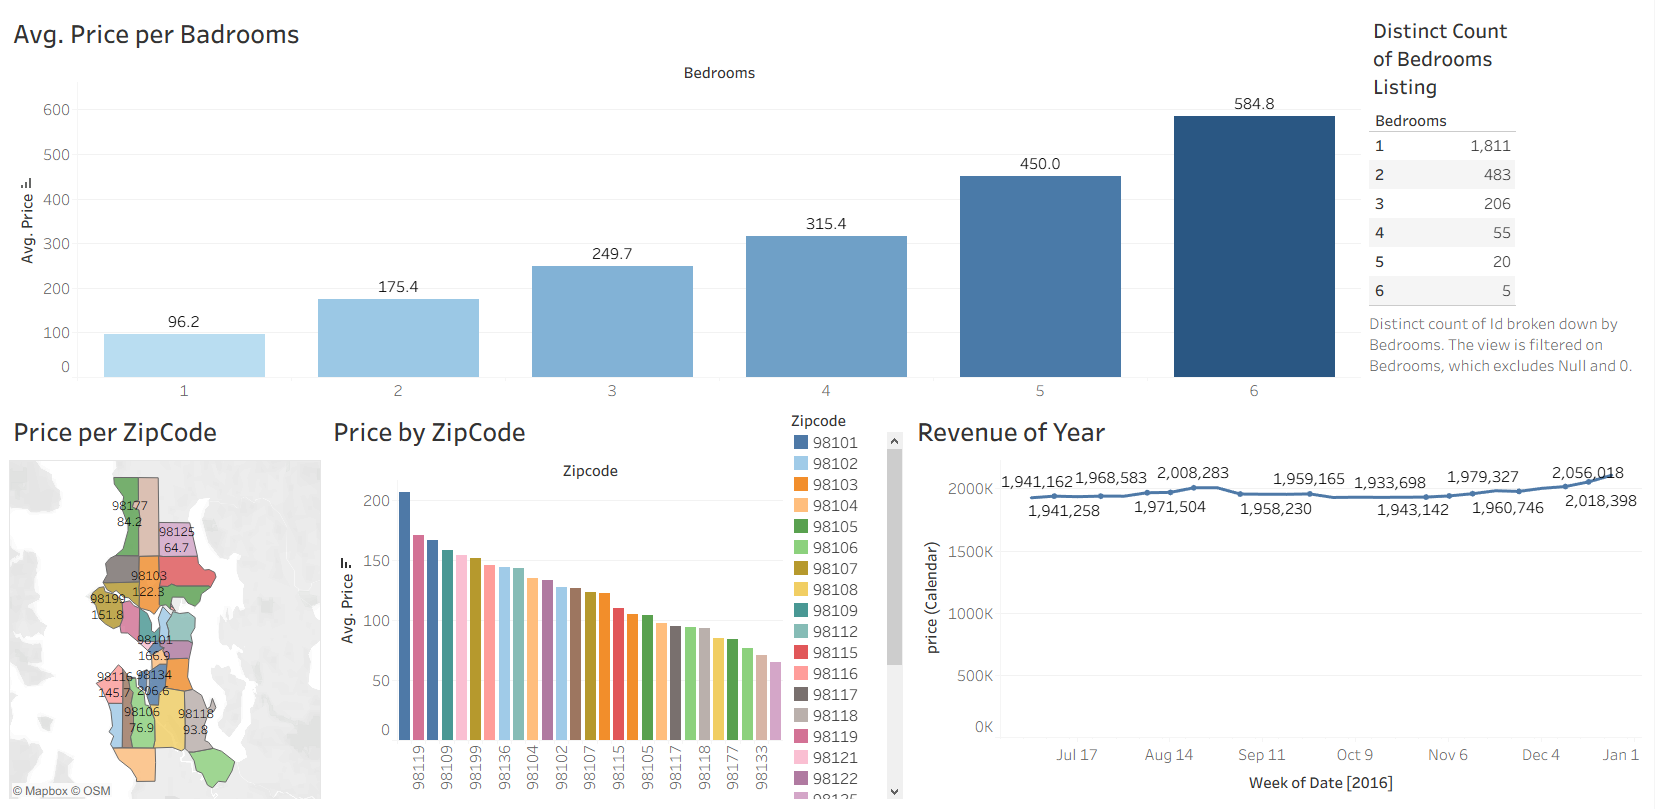

This screenshot's page, from the dashboard's own definition file:
{"tool":"tableau","page":{"name":"Dashboard 1","canvas":[1000,1000],"units":"permille","ordinal":0},"visuals":[{"type":"worksheet","title":"Sheet 4","mark":"Automatic","rows":["price"],"cols":["bedrooms"],"box":[4.8,9.9,843.1,490.1]},{"type":"worksheet","title":"Sheet 5","mark":"Automatic","rows":["bedrooms"],"box":[847.9,9.9,147.2,490.1]},{"type":"worksheet","title":"Sheet 2","mark":"Multipolygon","box":[4.8,500,193.1,490.1]},{"type":"worksheet","title":"Sheet 1","mark":"Automatic","rows":["price"],"cols":["zipcode"],"box":[198,500,278.8,490.1]},{"type":"legend","title":"Sheet 1","param":"[federated.0yzpdtt1fsffiu11a147w0knha5a].[none:zipcode:ok]","box":[476.8,500,73.6,490.1]},{"type":"worksheet","title":"Sheet 3","mark":"Automatic","rows":["price (Calendar)"],"cols":["date"],"box":[550.4,500,444.8,490.1]}]}

Visuals, with their boxes on the dashboard's canvas, which has no fixed pixel size, in thousandths of its width and height (x1, y1, x2, y2). These are canvas units, not pixel positions in the 1655x809 screenshot, which may show the page scaled, cropped or inside an application window:
"Sheet 4" worksheet: Rect(5, 10, 848, 500)
"Sheet 5" worksheet: Rect(848, 10, 995, 500)
"Sheet 2" worksheet (Multipolygon marks): Rect(5, 500, 198, 990)
"Sheet 1" worksheet: Rect(198, 500, 477, 990)
"Sheet 1" legend: Rect(477, 500, 550, 990)
"Sheet 3" worksheet: Rect(550, 500, 995, 990)
